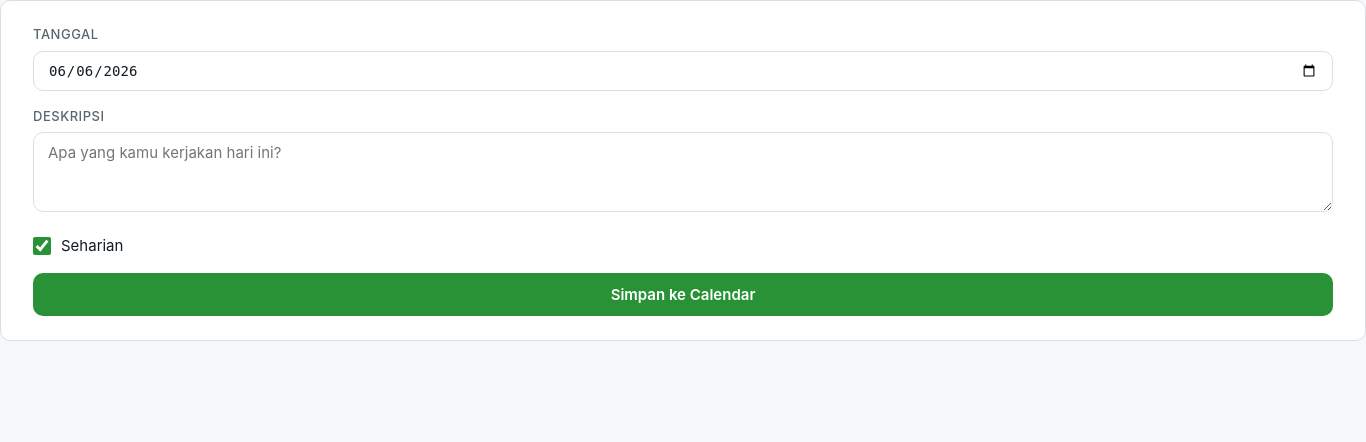
Test: ActivityForm › shows time inputs when all-day is unchecked
Click the checkbox labelled "Seharian" at (42, 246), box top-left (33, 237), bottom-right (51, 255)
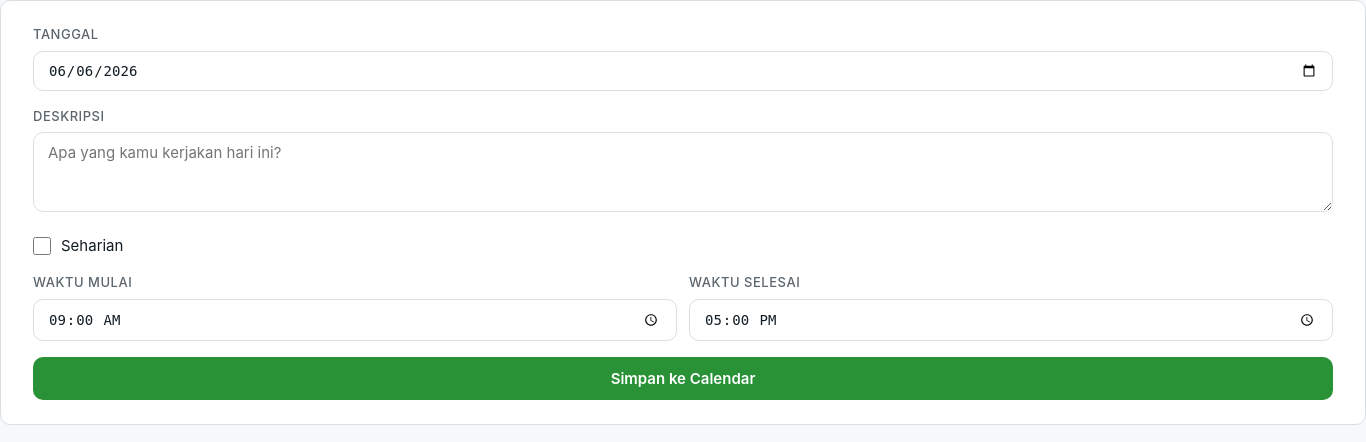
Now the time field labelled "Waktu mulai" is shown, box top-left (33, 298), bottom-right (677, 341)
Now the time field labelled "Waktu selesai" is shown, box top-left (689, 298), bottom-right (1333, 341)
